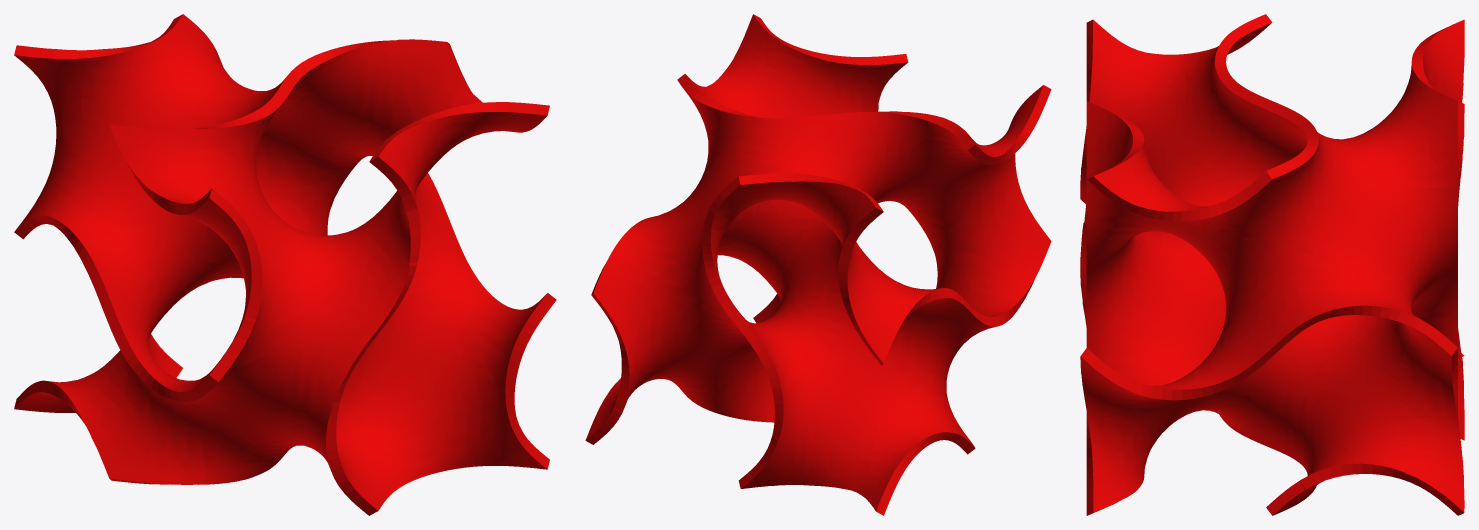
The picture shows the model from 3 angles, left to right: view 1: azimuth 30°, elevation 25°; view 2: azimuth 150°, elevation 25°; view 3: azimuth 270°, elevation 25°; orthographic projection. The views are drawn at different scales.
Size of the model in its own units: 0.207 by 0.2071 by 0.207.
